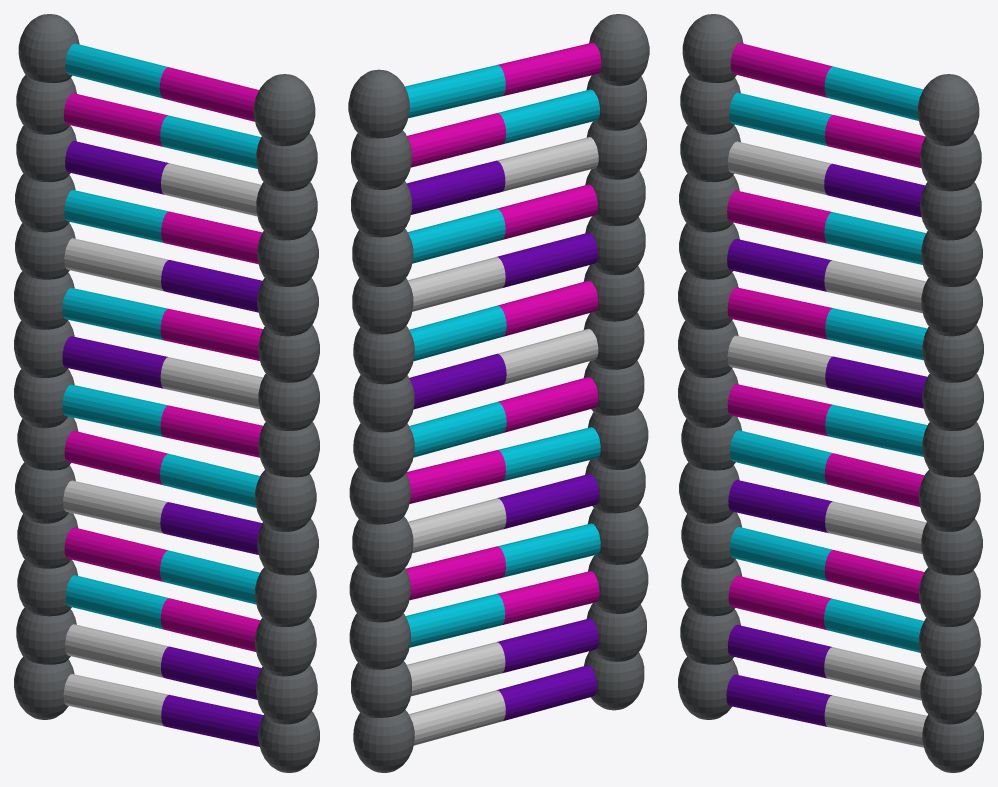
Rendered from DNAflatmutation1.glb.
The picture shows the model from 3 angles, left to right: view 1: azimuth 90°, elevation 25°; view 2: azimuth 150°, elevation 25°; view 3: azimuth 270°, elevation 25°; orthographic projection.
Visible parts, largest first — view 1: Mesh_Mesh_head_geo.001_lambert2SG.001; view 2: Mesh_Mesh_head_geo.001_lambert2SG.001; view 3: Mesh_Mesh_head_geo.001_lambert2SG.001.
Boxes of the visible parts, left/top/right/bottom form: Mesh_Mesh_head_geo.001_lambert2SG.001: left=14, top=14, right=319, bottom=772; Mesh_Mesh_head_geo.001_lambert2SG.001: left=348, top=14, right=649, bottom=772; Mesh_Mesh_head_geo.001_lambert2SG.001: left=678, top=14, right=983, bottom=772.
Bounding box in the file's own units: 45.86 × 173 × 68.85.
